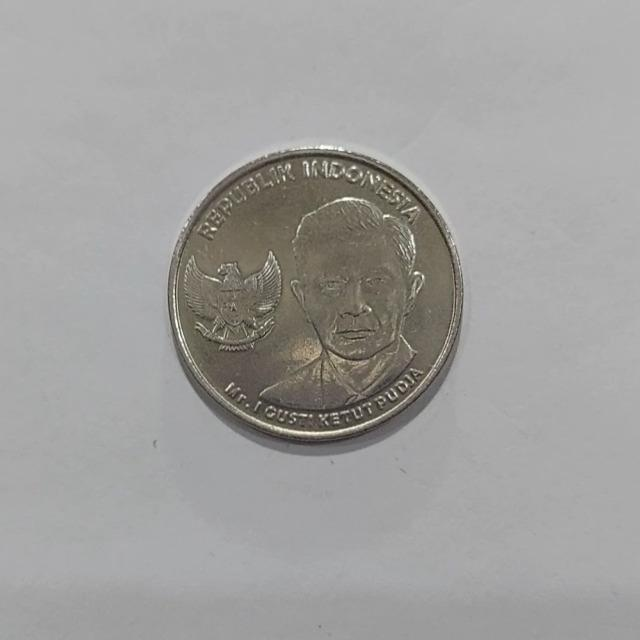Rp100: (166, 143, 465, 446), (255, 194, 427, 412), (179, 247, 284, 353)
